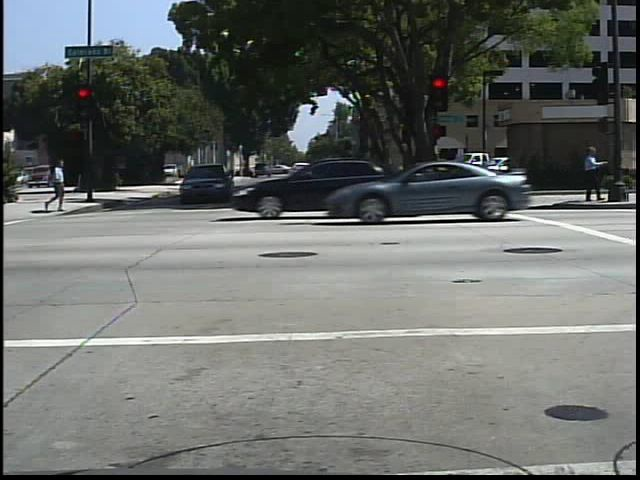person: (579, 143, 610, 209), (44, 157, 68, 216)
